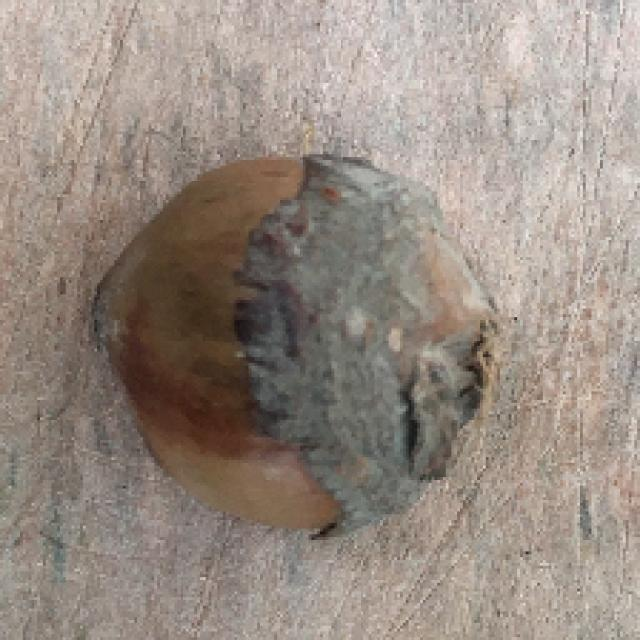DamagedHazelnut: (93, 155, 506, 528)
